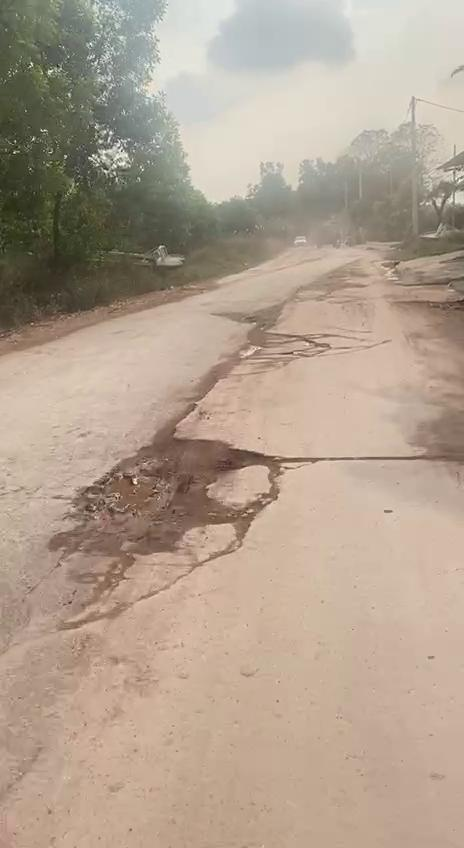pothole: (50, 418, 288, 575)
